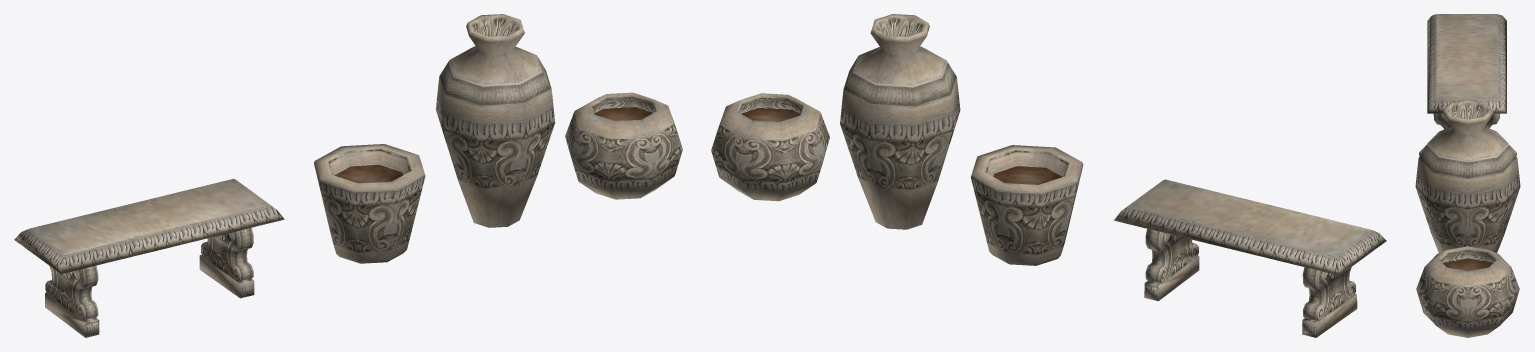
The model's file is StoneGardenBench.FBX.
3 renders of one model, left to right at view 1: azimuth 30°, elevation 25°; view 2: azimuth 150°, elevation 25°; view 3: azimuth 270°, elevation 25°, orthographic. The views are drawn at different scales.
Visible parts, largest first — view 1: Stone Vase Large, Stone Garden Bench, Stone Planter, Stone Round Pot; view 2: Stone Vase Large, Stone Garden Bench, Stone Planter, Stone Round Pot; view 3: Stone Vase Large, Stone Garden Bench, Stone Round Pot.
Boxes of the visible parts, box(x1,y1,x2,y2) form: Stone Vase Large: box(436, 14, 555, 227); Stone Garden Bench: box(14, 178, 284, 337); Stone Planter: box(314, 144, 425, 263); Stone Round Pot: box(565, 92, 682, 199); Stone Vase Large: box(840, 14, 960, 229); Stone Garden Bench: box(1114, 179, 1386, 337); Stone Planter: box(970, 145, 1083, 265); Stone Round Pot: box(711, 93, 829, 201); Stone Vase Large: box(1415, 99, 1520, 252); Stone Garden Bench: box(1427, 14, 1506, 129); Stone Round Pot: box(1416, 246, 1519, 337).
Size of the model in its own units: 4.11 by 1.18 by 0.6875.
